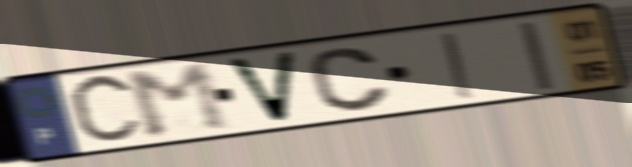C: (64, 69, 146, 150), (305, 45, 395, 115)
I: (513, 17, 559, 93), (437, 30, 480, 103)
M: (120, 59, 237, 142)
V: (221, 49, 300, 126)
